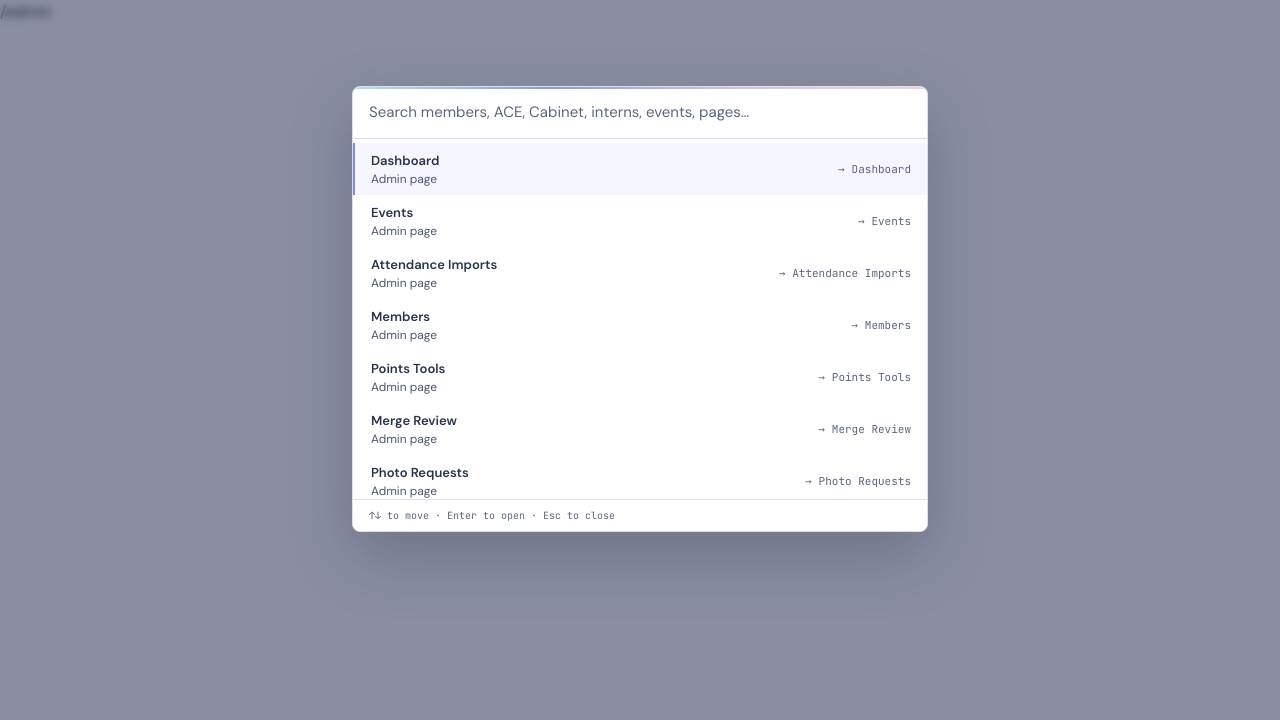
Test: unsaved changes › navigates once the admin agrees to discard
Type "havyn" into the dropdown named "Search admin" at coordinates (640, 113), box [353,87,927,139]
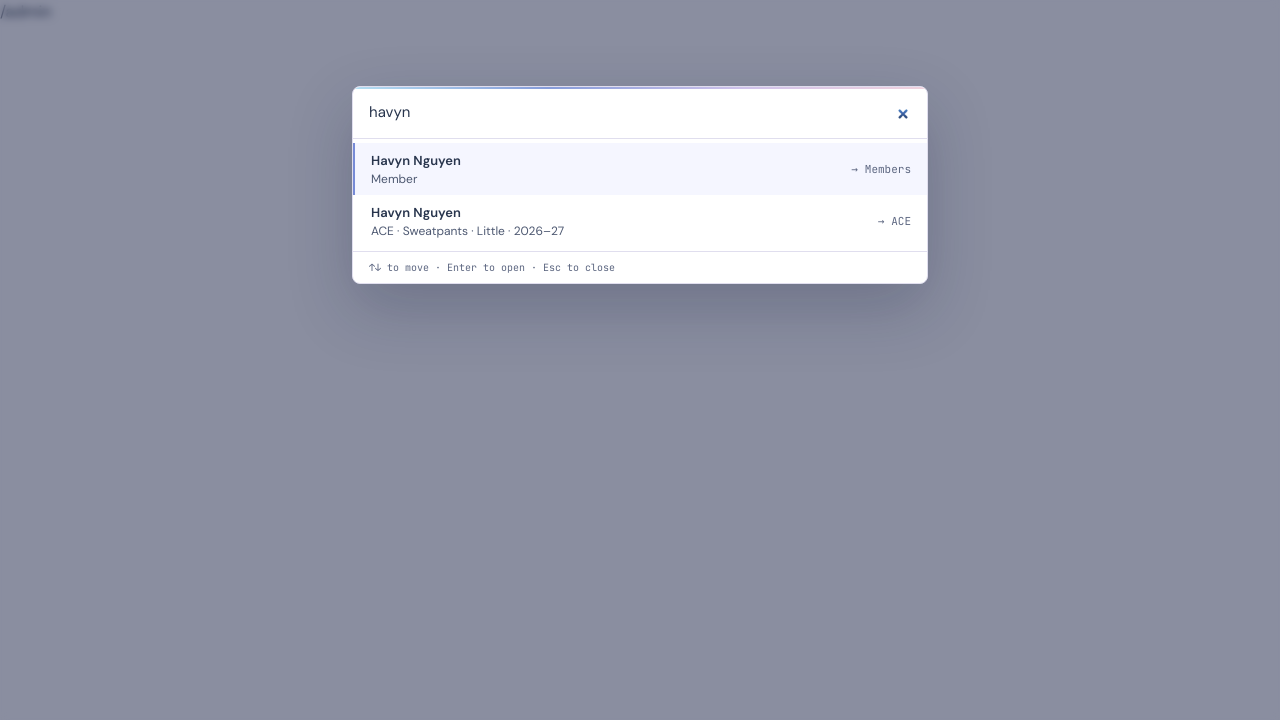
Press Enter in the dropdown named "Search admin", box [353,87,927,139]
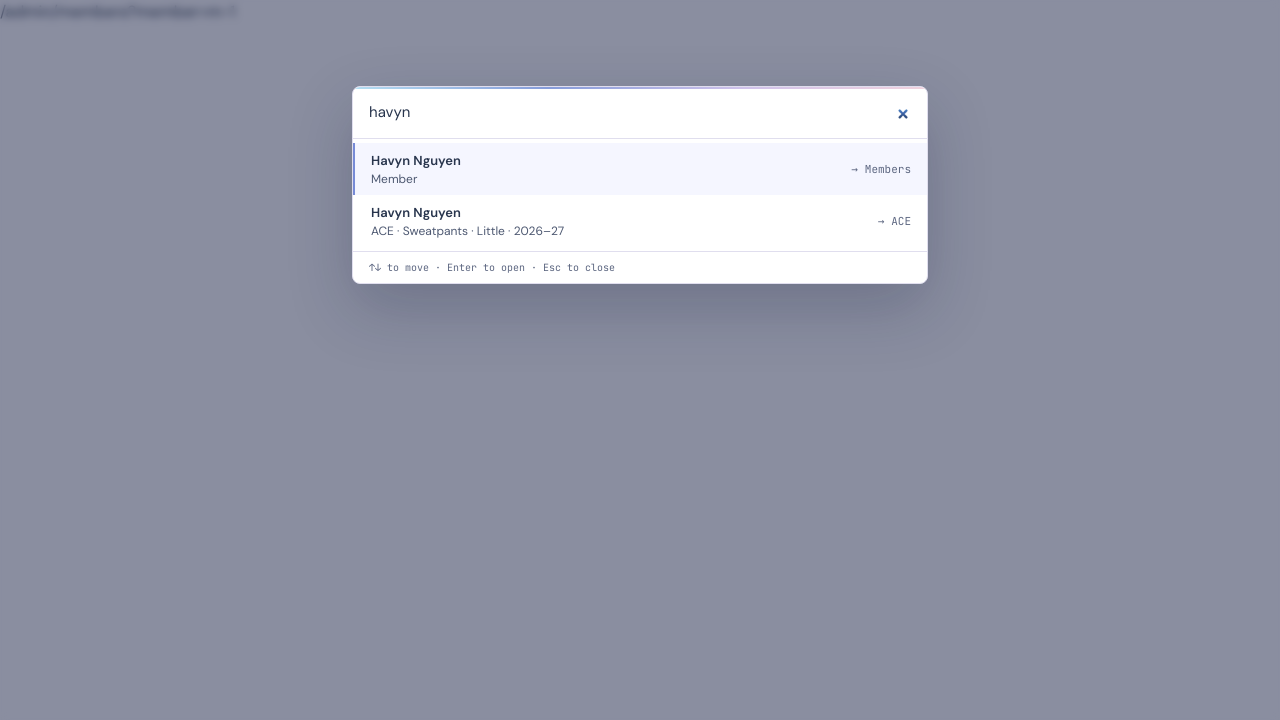
Result: the text with test id "where" reads "/admin/members?member=m-1" at [0,1,235,22]
